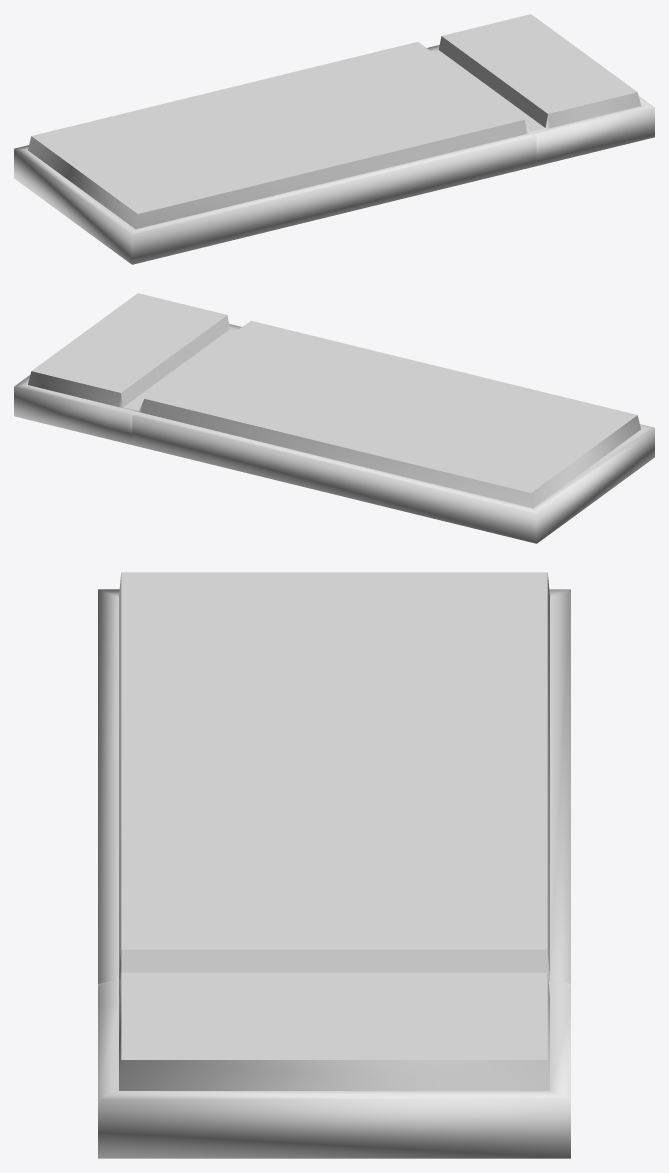
The model's file is Keyboard.fbx.
3 renders of one model, top to bottom at view 1: azimuth 30°, elevation 25°; view 2: azimuth 150°, elevation 25°; view 3: azimuth 270°, elevation 25°, orthographic. The views are drawn at different scales.
Parts seen in each view (by area): view 1: Keyboard; view 2: Keyboard; view 3: Keyboard.
Boxes of the visible parts, left/top/right/bottom form: Keyboard: left=14, top=14, right=654, bottom=264; Keyboard: left=14, top=293, right=654, bottom=543; Keyboard: left=98, top=572, right=570, bottom=1158.
Bounding box in the file's own units: 36.58 × 2.92 × 14.32.
1 material, 1 textured.
